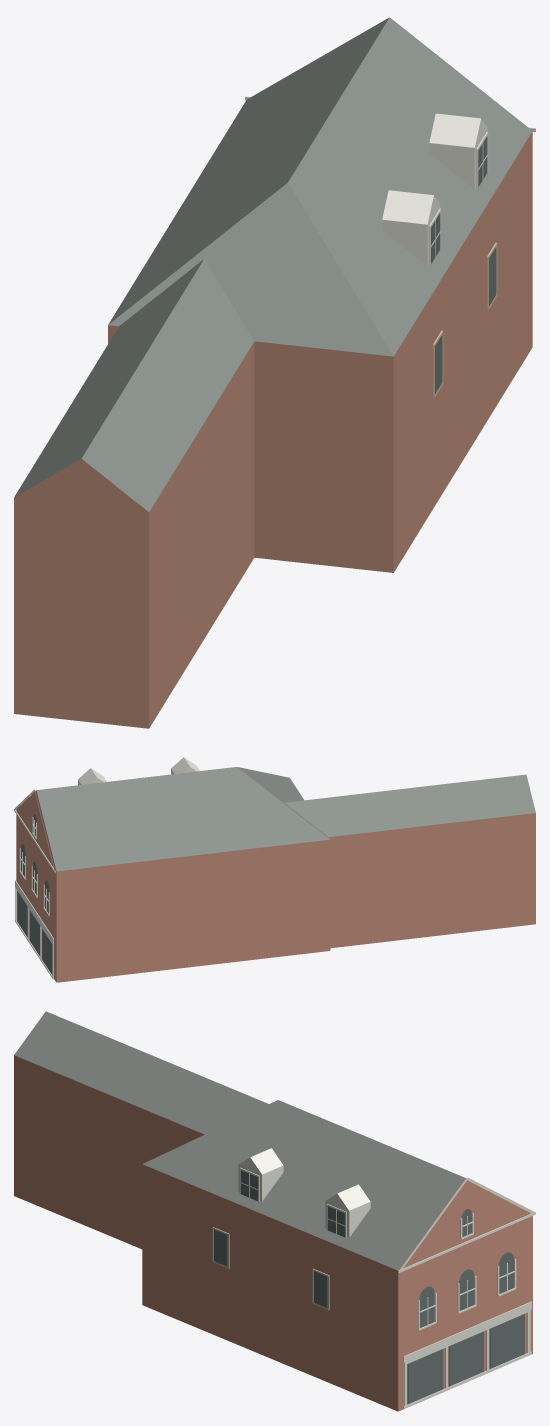
The model's file is queen-228-local.glb.
3 views of the same model, one above another, from view 1: azimuth 30°, elevation 25°; view 2: azimuth 150°, elevation 25°; view 3: azimuth 270°, elevation 25° (orthographic). The views are drawn at different scales.
Parts seen in each view (by area): view 1: Source brick, Source roof, Light trim, Opaque glazing; view 2: Source brick, Source roof, Light trim, Opaque glazing; view 3: Source brick, Source roof, Opaque glazing, Light trim, Buff window surrounds.
Part boxes in pixels (box(x1,y1,x2,y2)): Source brick: box(14, 131, 532, 728); Source roof: box(14, 17, 532, 511); Light trim: box(245, 96, 535, 265); Opaque glazing: box(431, 136, 496, 393); Source brick: box(16, 790, 535, 982); Source roof: box(36, 767, 535, 871); Light trim: box(14, 757, 199, 979); Opaque glazing: box(17, 814, 52, 974); Source brick: box(14, 1055, 532, 1411); Source roof: box(14, 1011, 465, 1270); Opaque glazing: box(214, 1170, 524, 1404); Light trim: box(238, 1148, 535, 1408); Buff window surrounds: box(212, 1227, 329, 1310).
Bounding box in the file's own units: 32.16 × 12.63 × 29.05.
